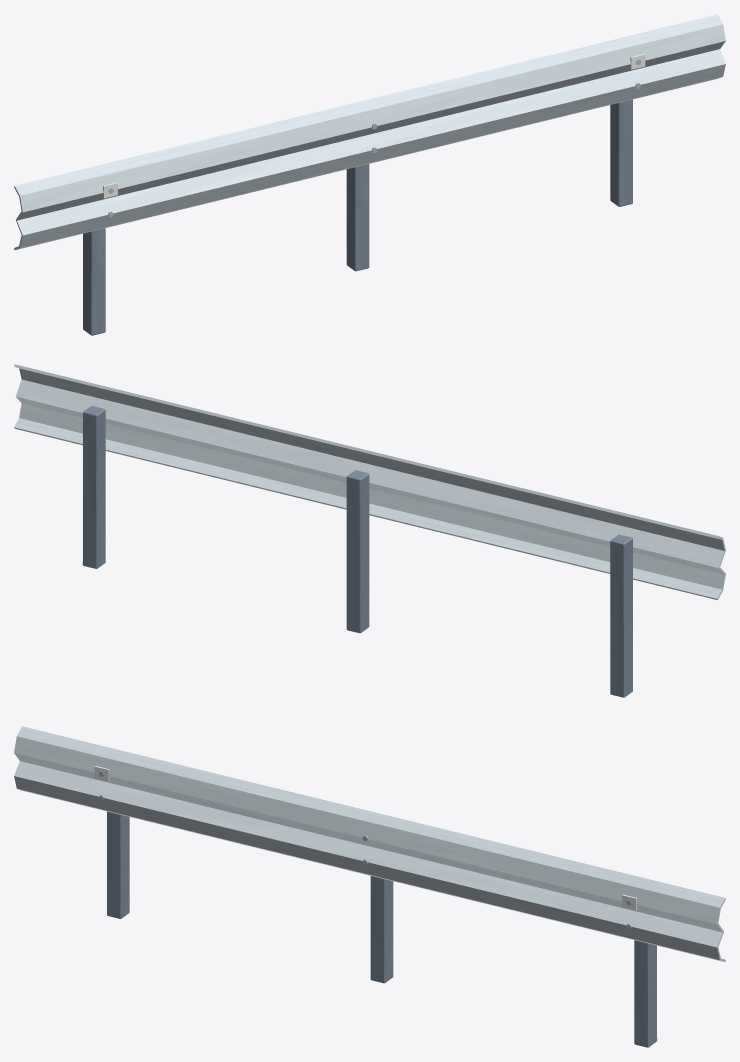
File: guardrail.glb
3 renders of one model, top to bottom at view 1: azimuth 30°, elevation 25°; view 2: azimuth 150°, elevation 25°; view 3: azimuth 330°, elevation 25°, orthographic.
Visible parts, largest first — view 1: guardrail; view 2: guardrail; view 3: guardrail.
Boxes of the visible parts, left/top/right/bottom form: guardrail: left=14, top=14, right=725, bottom=335; guardrail: left=14, top=364, right=725, bottom=697; guardrail: left=14, top=726, right=725, bottom=1047.
Size of the model in its own units: 4 by 0.9399 by 0.2116.
Materials: 1 (1 with a texture image).
